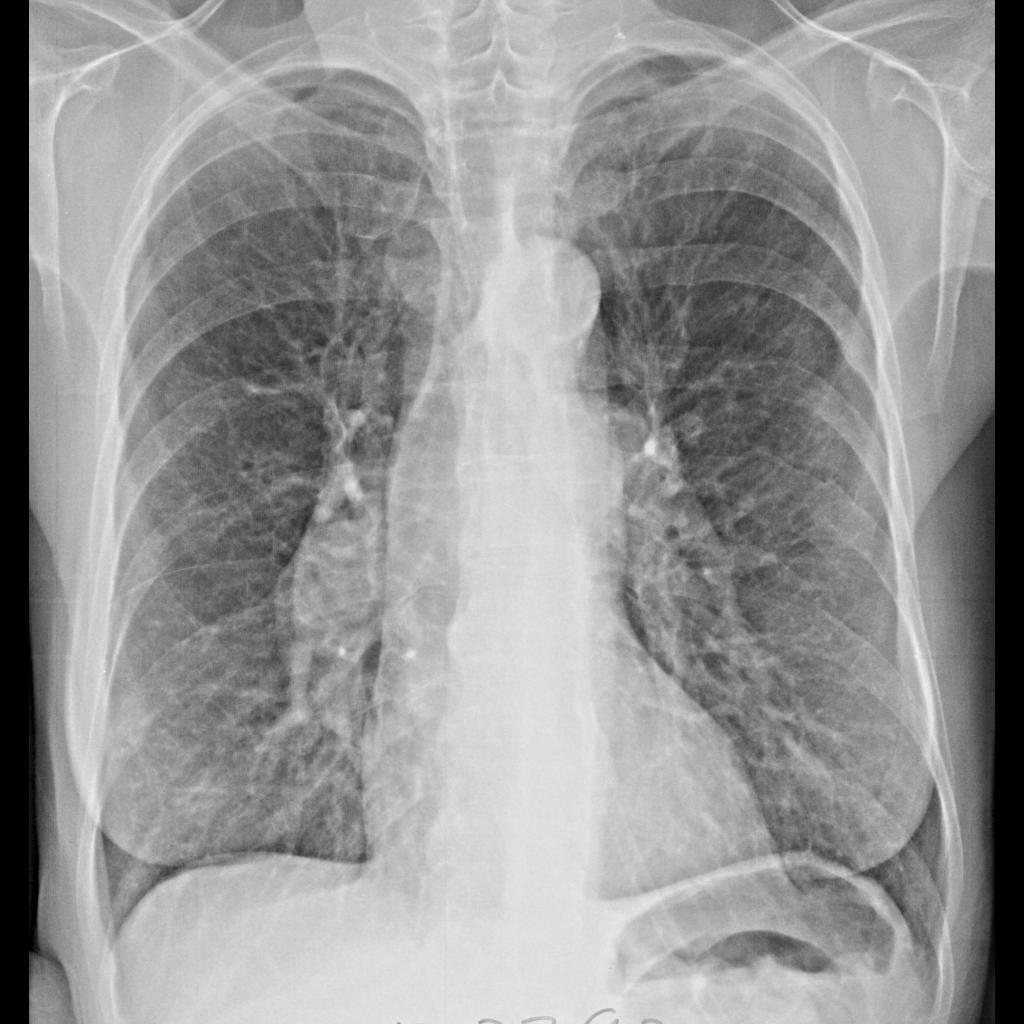Nodule: (104, 687, 166, 750)
